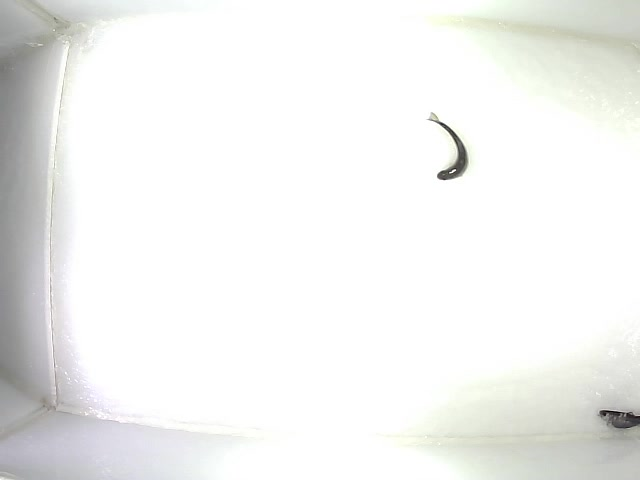fish: (427, 110, 470, 182), (596, 409, 640, 431)
